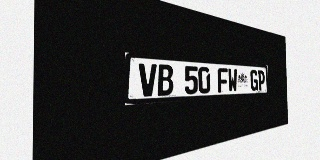0: (198, 67, 210, 94)
5: (185, 66, 198, 94)
B: (157, 64, 173, 96)
F: (218, 68, 228, 93)
G: (250, 70, 258, 91)
P: (258, 70, 265, 90)
V: (139, 63, 157, 97)
W: (228, 68, 237, 92)
